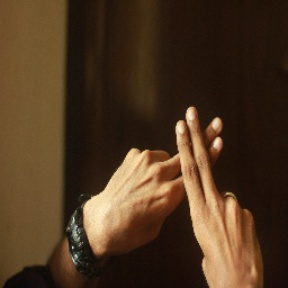F: (146, 97, 246, 223)
